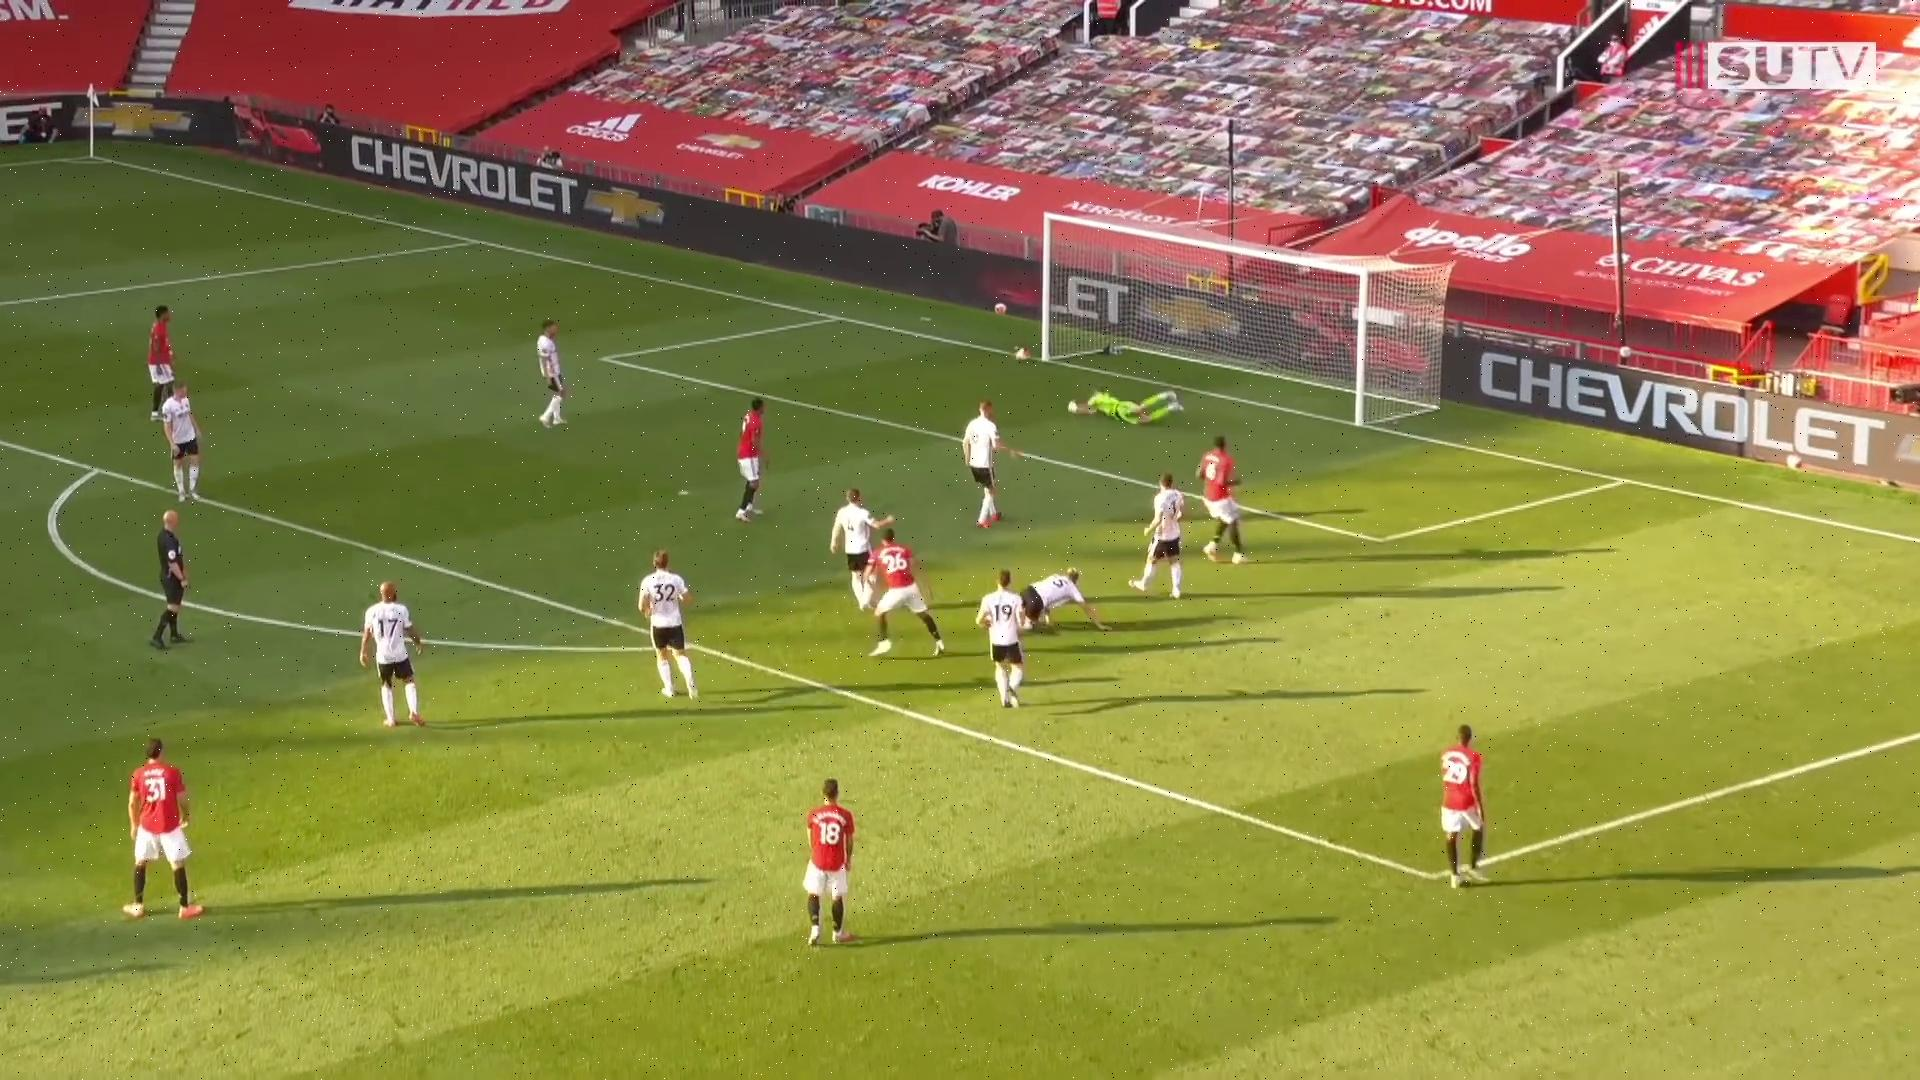ball: (1015, 346, 1032, 363)
